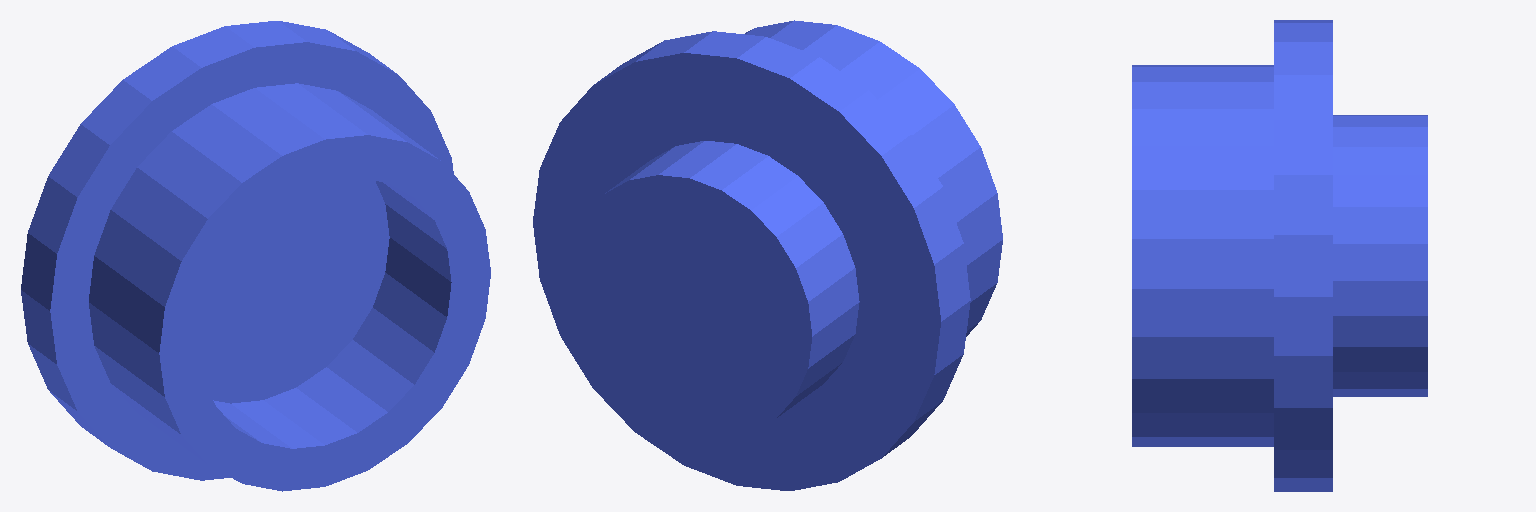
The robot description file, URDF, robot "brick.urdf":
<?xml version="1.0" ?>
<robot name="brick.urdf">
  <link name="baseLink">
    <contact>
      <lateral_friction value="0.5"/>
      <rolling_friction value="0.0"/>
      <contact_cfm value="0.0"/>
      <contact_erp value="1.0"/>
    </contact>
    <inertial>
      <origin rpy="0 0 0" xyz="0.0 0.0 0.0"/>
       <mass value=".1"/>
       <inertia ixx="1" ixy="0" ixz="0" iyy="1" iyz="0" izz="1"/>
    </inertial>
    <visual>
      <origin rpy="0 0 0" xyz="0 0 0"/>
      <geometry>
        <mesh filename="brick.obj" scale=".1 .1 .1"/>
      </geometry>
       <material name="light_blue">
        <color rgba=".4 .5 1 1"/>
      </material>
    </visual>
    <collision>
      <origin rpy="0 0 0" xyz="0 0 0"/>
      <geometry>
	 	<mesh filename="brick.obj" scale=".1 .1 .1"/>
      </geometry>
    </collision>
  </link>
</robot>

--- Facts derived from the render (not from the file) ---
3 views of the same robot in one strip: view 1: azimuth 30°, elevation 25°; view 2: azimuth 150°, elevation 25°; view 3: azimuth 270°, elevation 25° (orthographic).
Model brick.urdf with 1 links and 0 joints (none), rooted at baseLink, posed all joints at 0.
Visible links, largest first — view 1: baseLink; view 2: baseLink; view 3: baseLink.
Link boxes in pixels (x1=…): baseLink: x1=21, y1=21, x2=490, y2=491; baseLink: x1=533, y1=20, x2=1002, y2=490; baseLink: x1=1132, y1=20, x2=1427, y2=491.
Bounding box of the posed robot: 0.08 × 0.05 × 0.08 m (x, y, z).
1 mesh visuals loaded from 1 distinct referenced files (1 OBJ).